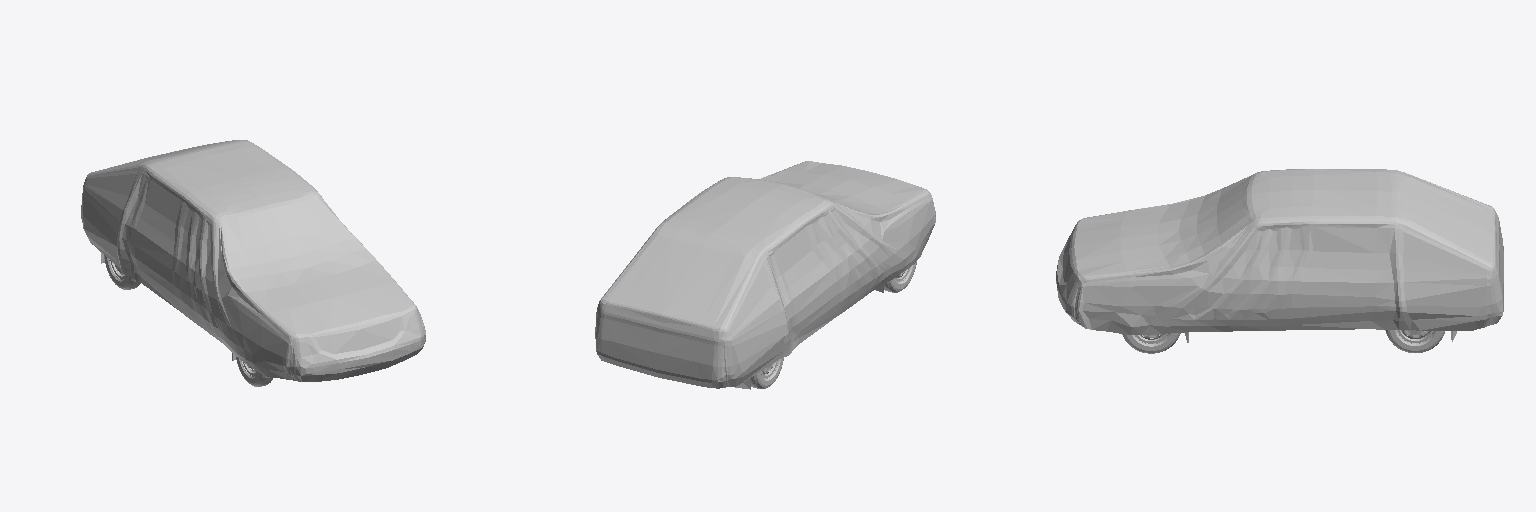
Rendered from covered_car_1k.obj.
The picture shows the model from 3 angles: view 1: azimuth 30°, elevation 25°; view 2: azimuth 150°, elevation 25°; view 3: azimuth 270°, elevation 25°; orthographic projection.
Parts seen in each view (by area): view 1: covered_car; view 2: covered_car, covered_car_wheel_03; view 3: covered_car, covered_car_wheel_04, covered_car_wheel_01.
Part boxes in pixels (bbox=[...]): covered_car: bbox=[81, 140, 425, 381]; covered_car: bbox=[595, 161, 935, 389]; covered_car_wheel_03: bbox=[751, 358, 783, 388]; covered_car: bbox=[1056, 169, 1503, 342]; covered_car_wheel_04: bbox=[1385, 330, 1444, 352]; covered_car_wheel_01: bbox=[1122, 333, 1180, 353].
Bounding box in the file's own units: 1.79 × 1.41 × 4.38.